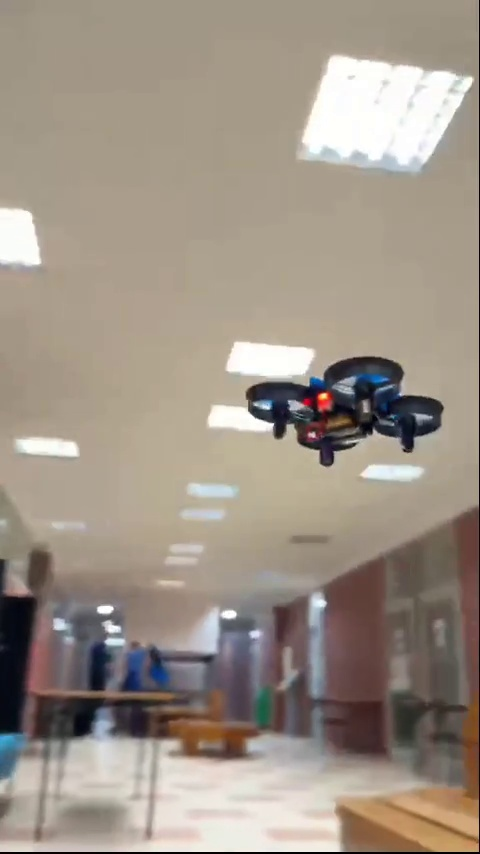drone: (249, 357, 445, 474)
no vest: (119, 627, 151, 695), (85, 629, 110, 686)
